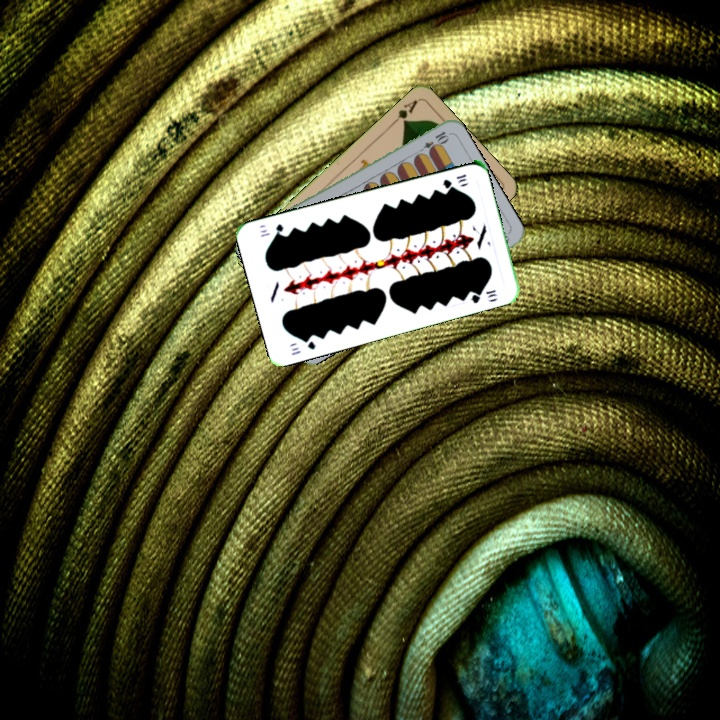E10: (413, 127, 451, 157)
G10: (287, 333, 318, 358), (439, 170, 470, 191)
GA: (387, 96, 420, 128)
